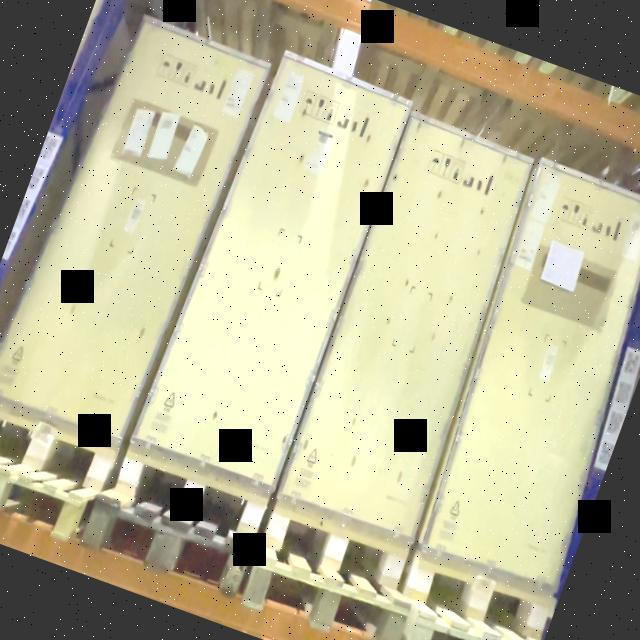box: (142, 54, 412, 493), (5, 17, 262, 444), (277, 115, 534, 538), (420, 168, 640, 583)
